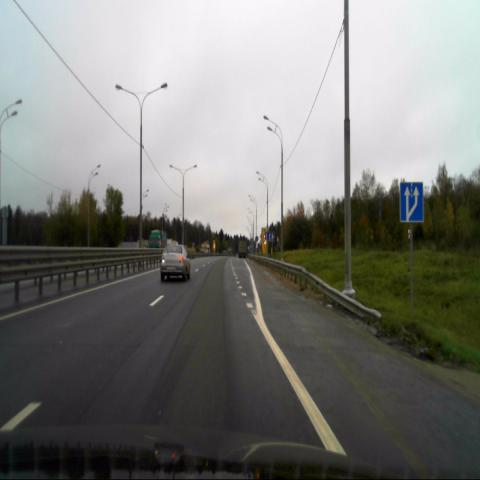5_15_3: (399, 182, 424, 223)
